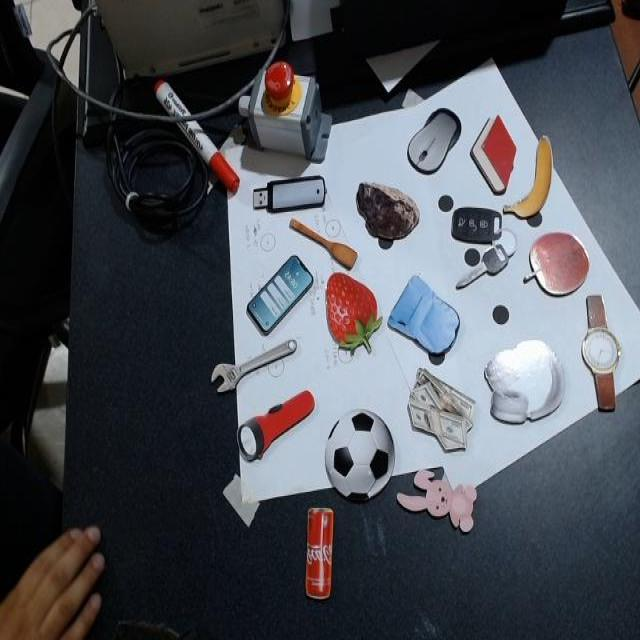Other Objects: (231, 370, 320, 470), (386, 269, 468, 372), (243, 248, 318, 342), (483, 340, 565, 425), (401, 96, 471, 187), (326, 410, 394, 502), (505, 127, 564, 231), (247, 253, 315, 336), (408, 369, 475, 452), (210, 338, 301, 397), (397, 468, 478, 533), (453, 206, 516, 287), (581, 293, 623, 412), (287, 208, 361, 273), (503, 135, 553, 219), (525, 233, 590, 296), (356, 180, 421, 240), (306, 505, 335, 599), (253, 176, 325, 213), (639, 1, 639, 1)
